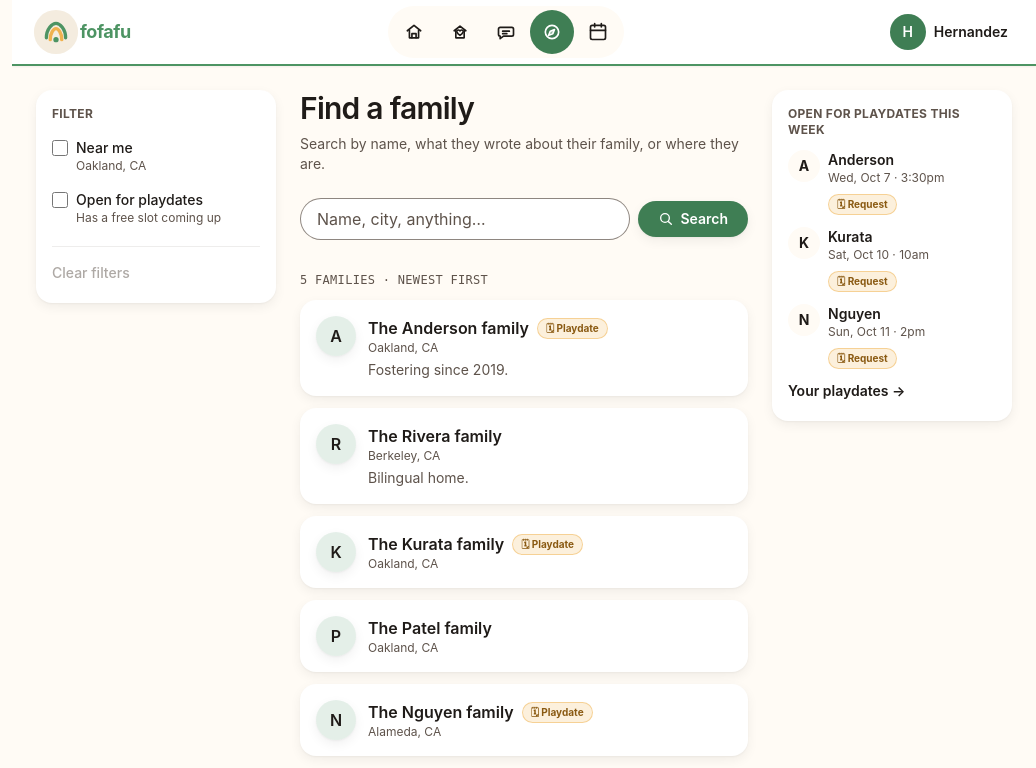
Test: SearchPage filters › combines both filters
Click the checkbox labelled "Near me": click(60, 148) [52, 140, 68, 156]
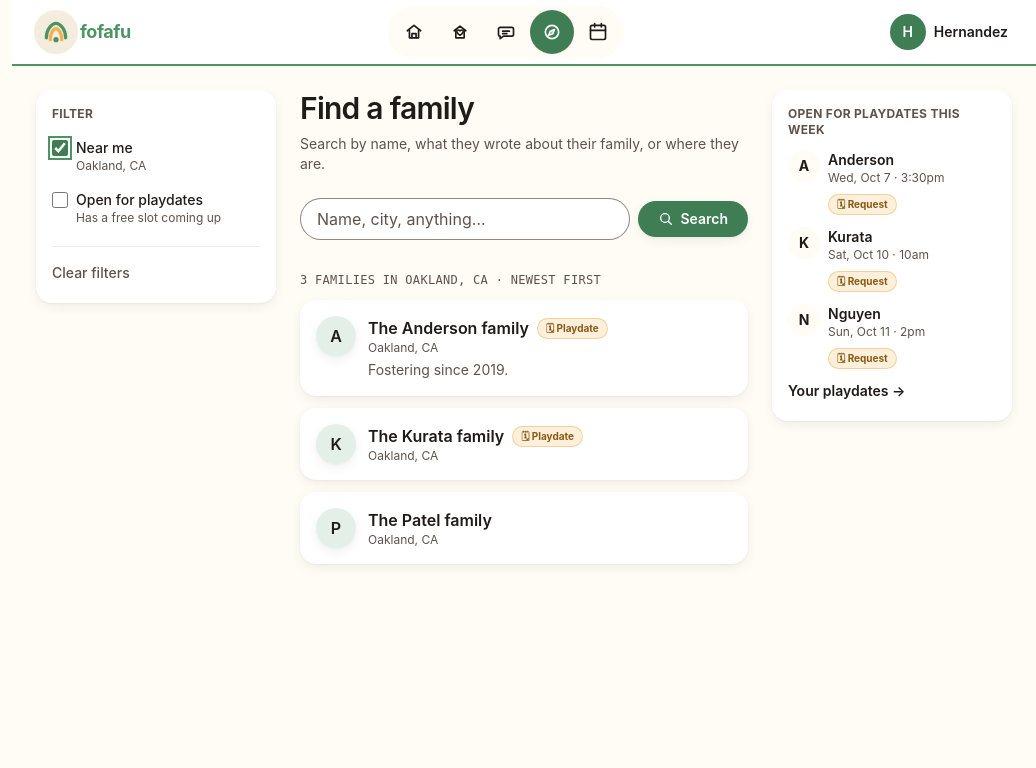
Click the checkbox labelled "Open for playdates": click(60, 200) [52, 192, 68, 208]
(page scrolled)
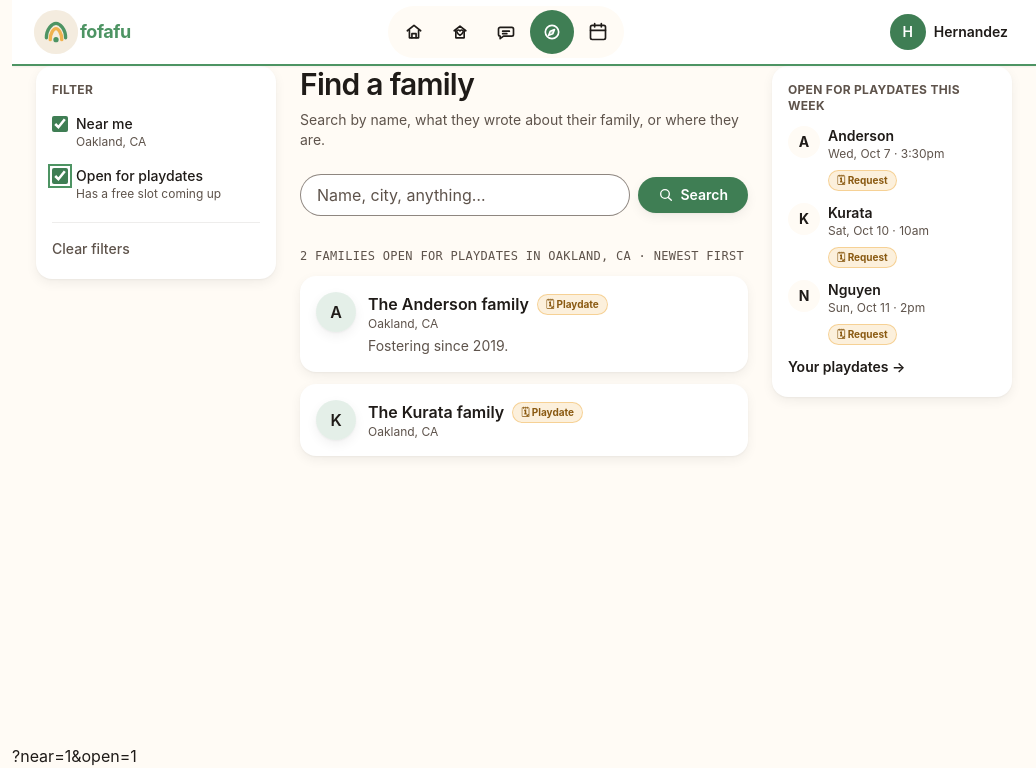
Check: the message reads "2 families open for playdates in Oakland, CA", box [300, 249, 631, 263]
Check: the text with test id "location-search" reads "?near=1&open=1", box [12, 746, 137, 766]
